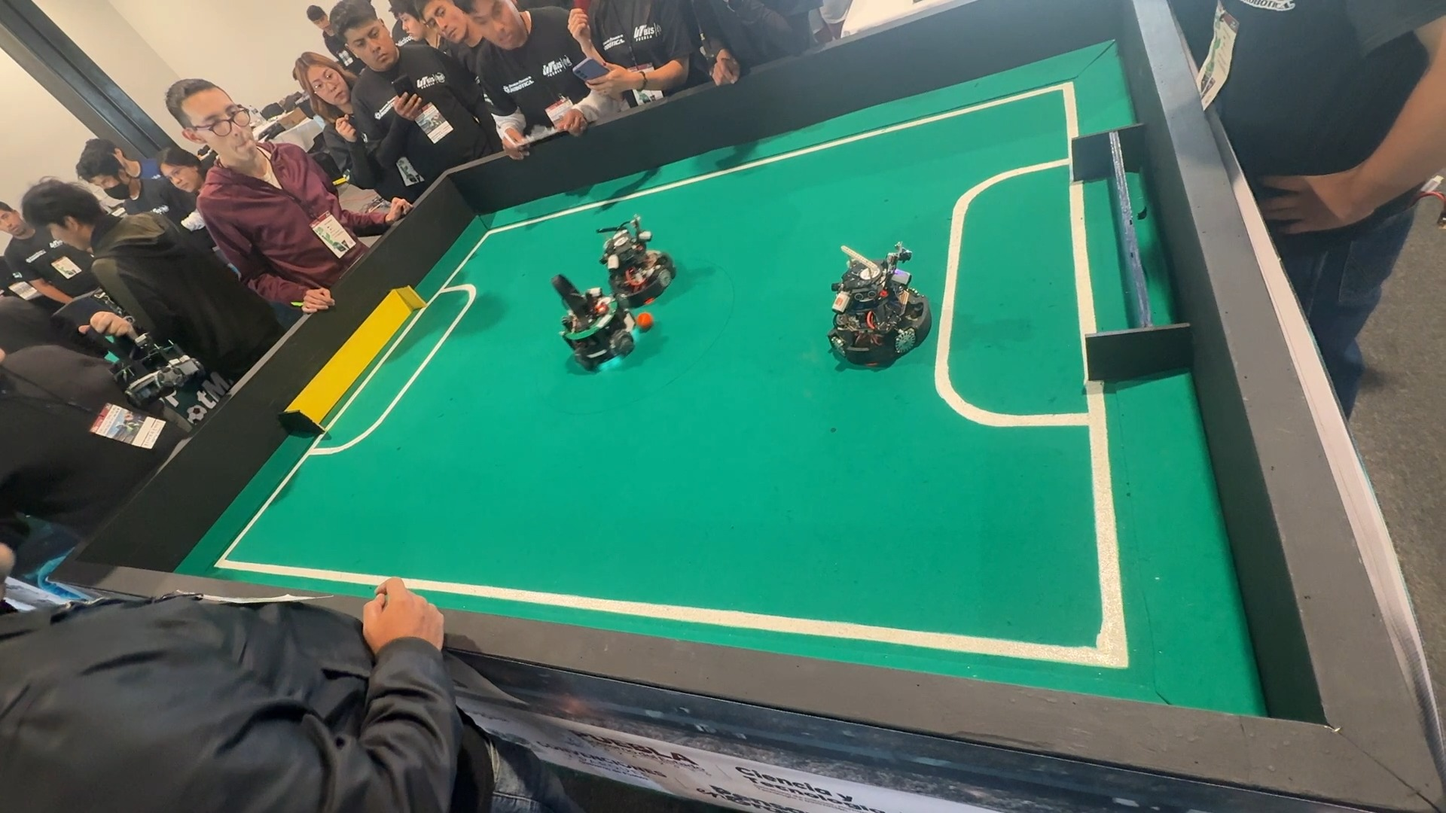Robot: (816, 231, 939, 381), (533, 268, 646, 373), (591, 214, 678, 302)
